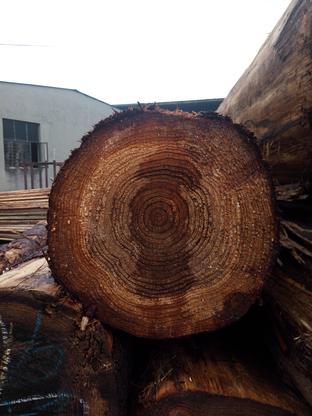mood: (49, 110, 278, 337)
